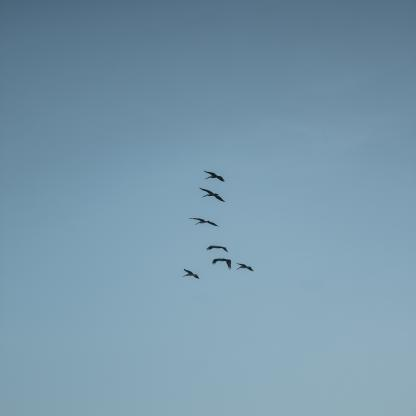bird: (200, 188, 226, 203), (189, 218, 221, 228), (203, 170, 226, 182), (212, 258, 232, 269), (206, 245, 229, 253), (236, 262, 254, 272), (182, 269, 200, 279)
